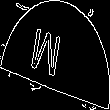M_S: (37, 25, 73, 85)
